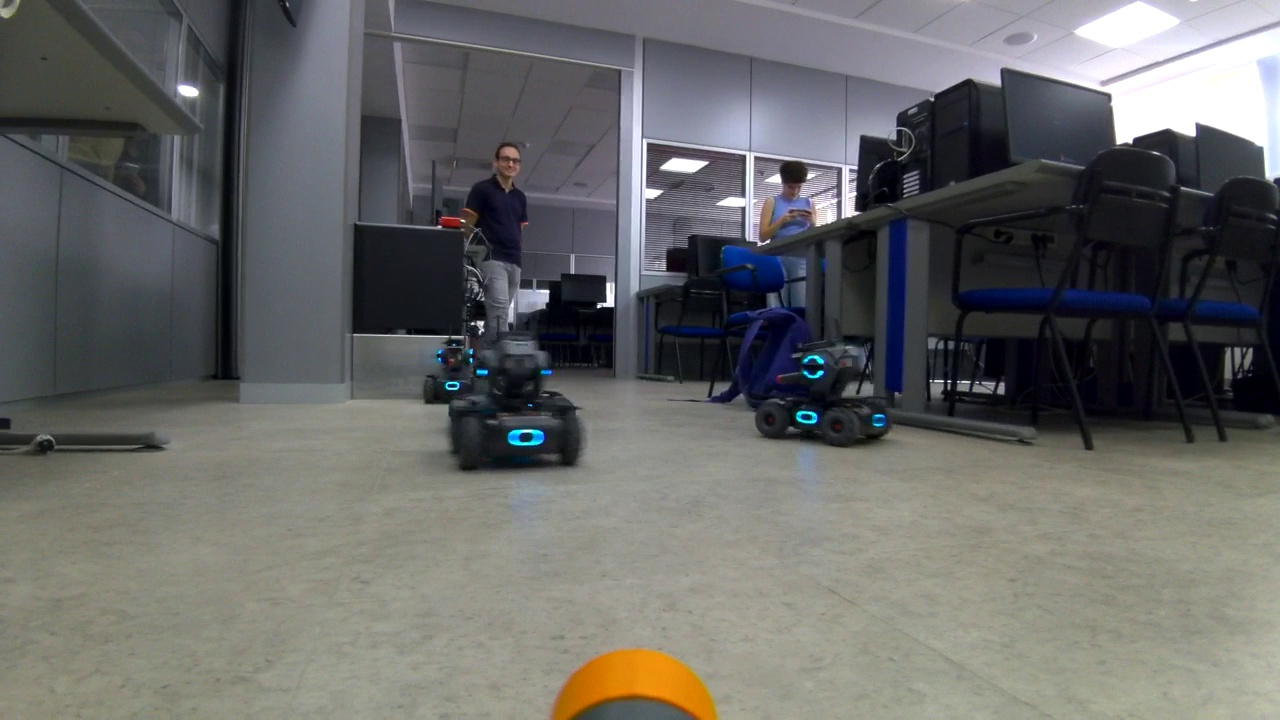robot: (744, 316, 903, 448), (448, 322, 589, 470), (416, 329, 492, 408)
